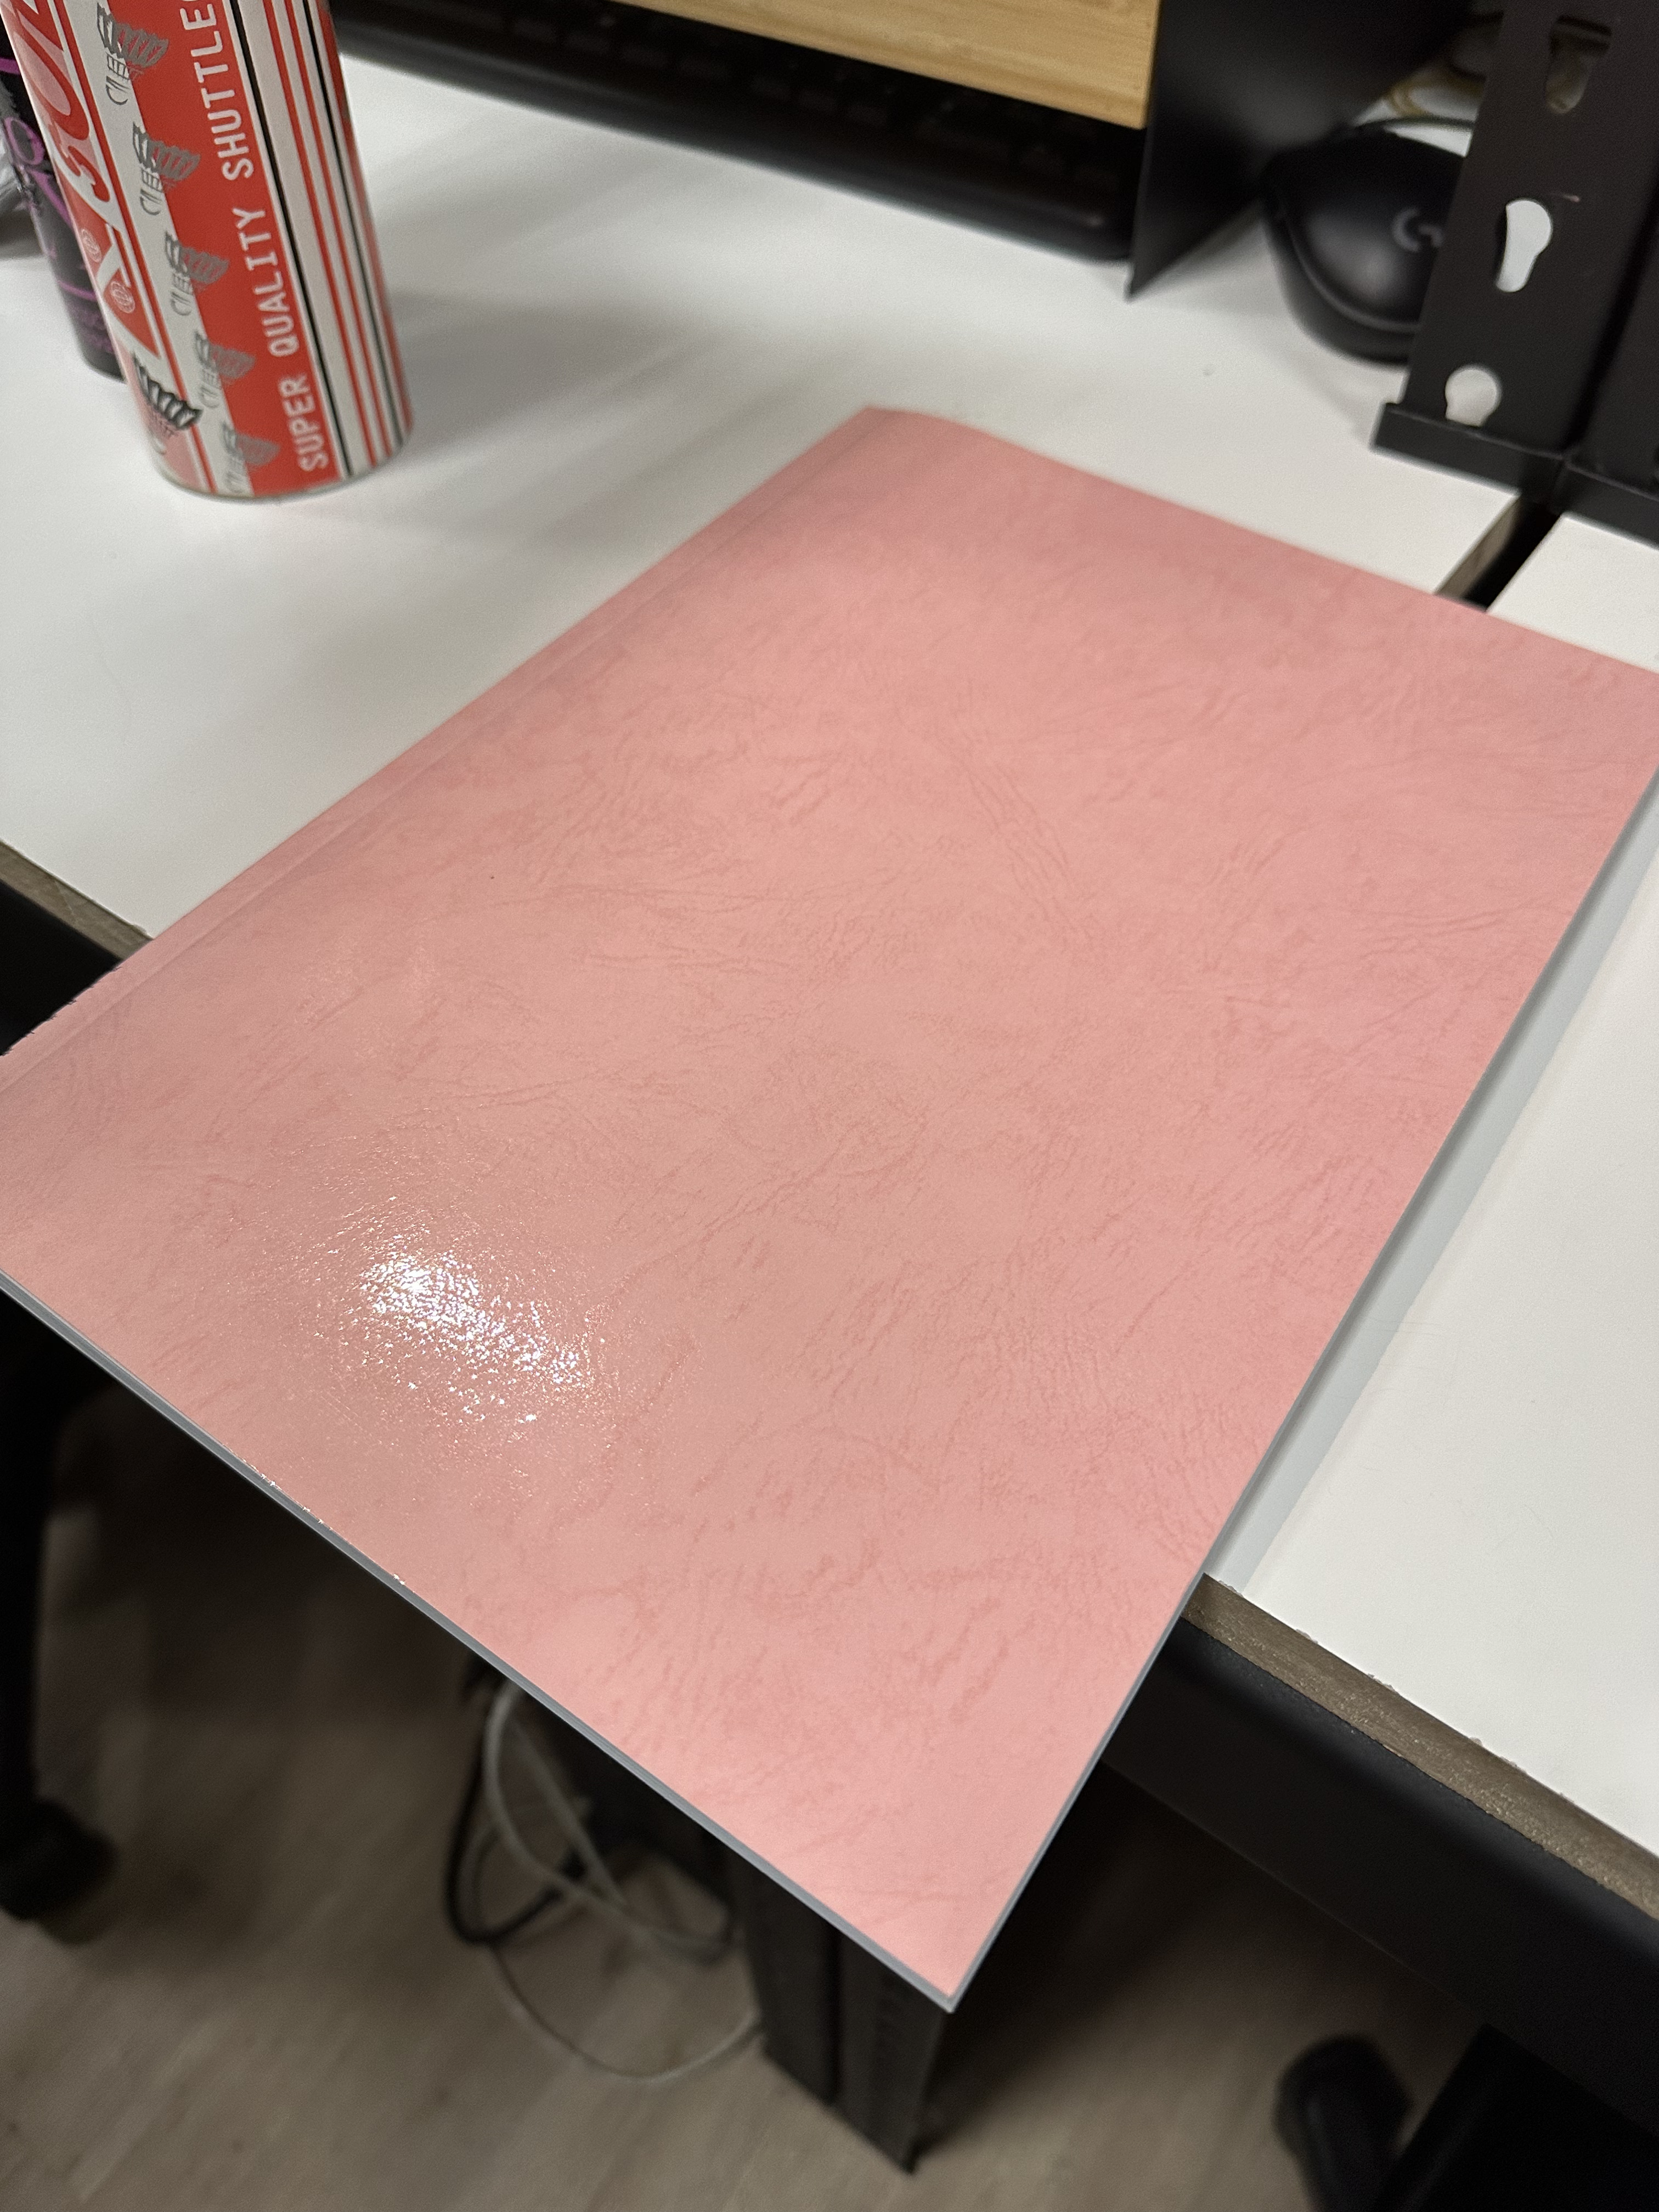book: (7, 404, 1659, 2017)
